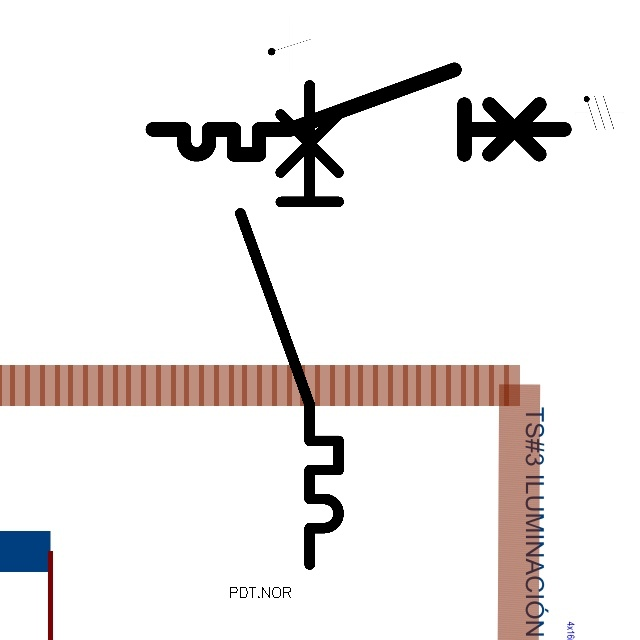interruptor_termomagnetico: (228, 73, 351, 577), (142, 59, 575, 165)
